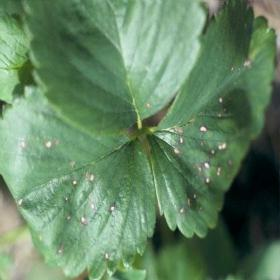Leaf Spot: (143, 0, 277, 239), (0, 84, 157, 279), (23, 0, 207, 139)
